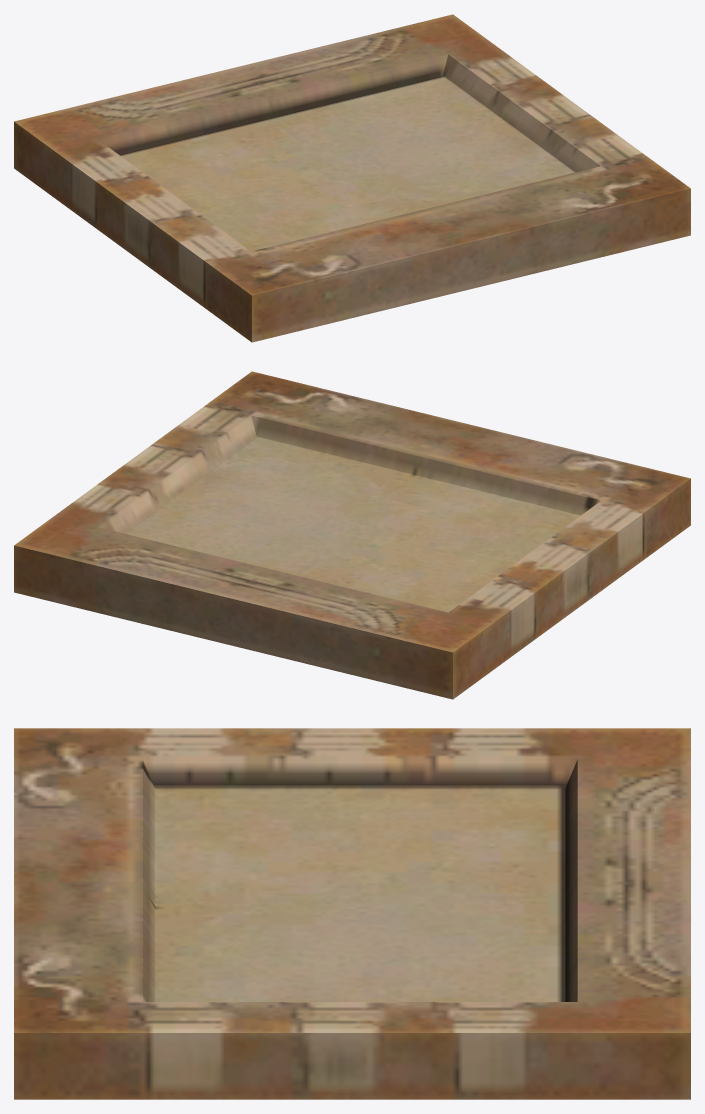
File: eqp_tool_datapad_l1.fbx
The picture shows the model from 3 angles, top to bottom: view 1: azimuth 30°, elevation 25°; view 2: azimuth 150°, elevation 25°; view 3: azimuth 270°, elevation 25°; orthographic projection. The views are drawn at different scales.
Visible parts, largest first — view 1: mesh_node; view 2: mesh_node; view 3: mesh_node.
Boxes of the visible parts, x1=… form: mesh_node: x1=14, y1=14, x2=690, y2=342; mesh_node: x1=14, y1=371, x2=690, y2=699; mesh_node: x1=14, y1=728, x2=690, y2=1099.
Bounding box in the file's own units: 0.2054 × 0.0247 × 0.1928.
1 material, 1 textured.
